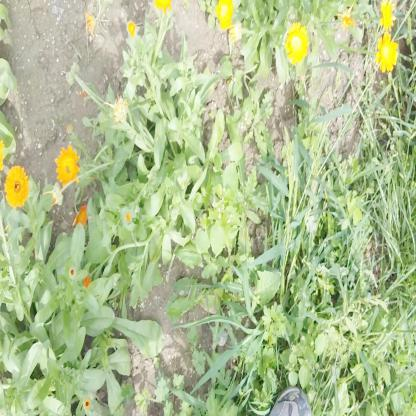marigold: (285, 23, 310, 64), (54, 146, 80, 184), (6, 166, 28, 210), (377, 35, 398, 70), (379, 0, 395, 31), (217, 0, 232, 31)
